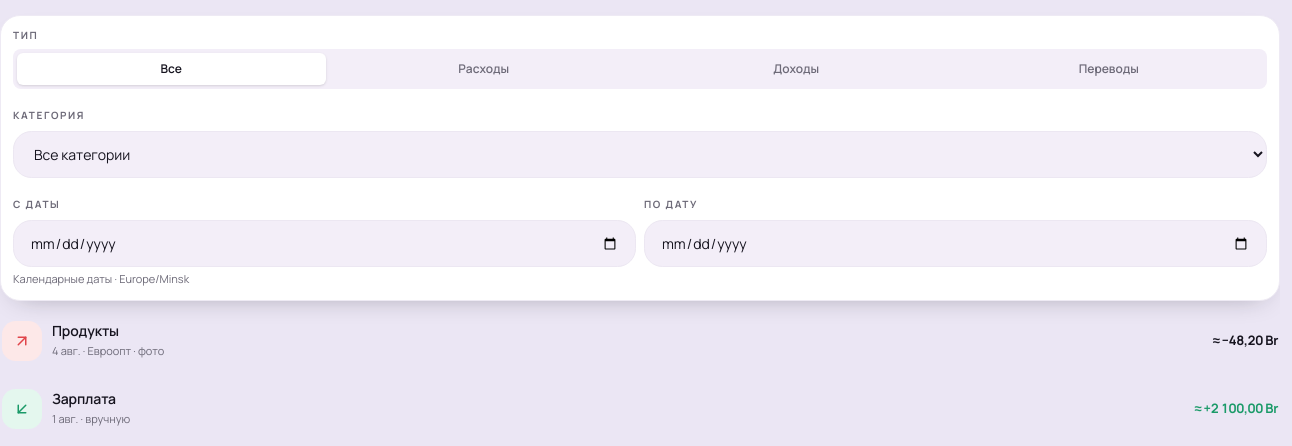
Scenario: HistoryPanel › filters list by kind Expense and keeps Edit links
Click the button "Расходы" at (484, 69), box top-left (330, 53), bottom-right (638, 85)
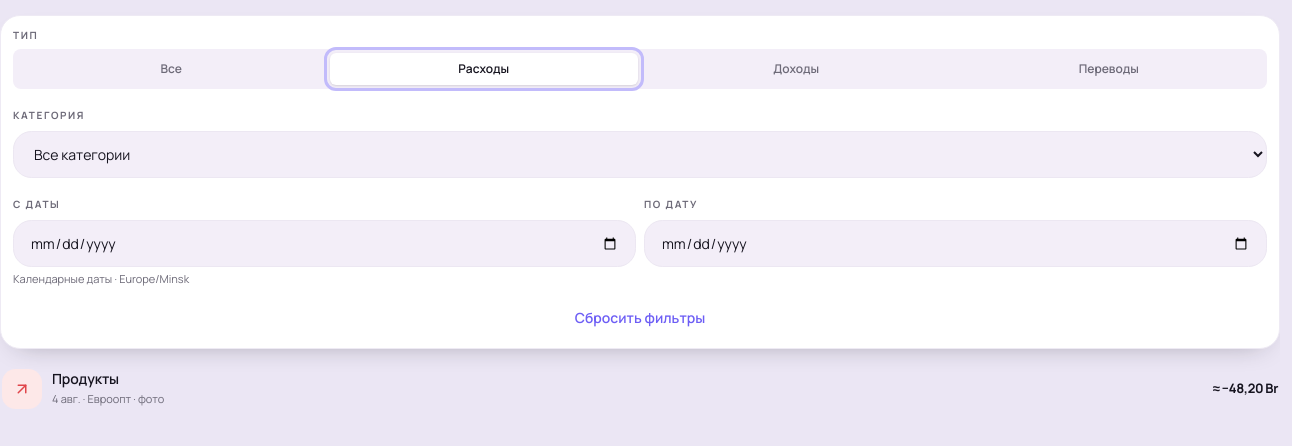
Expected: the text "Продукты" is shown, top-left (52, 369), bottom-right (119, 388)
Expected: the link "Зарплата" is gone
